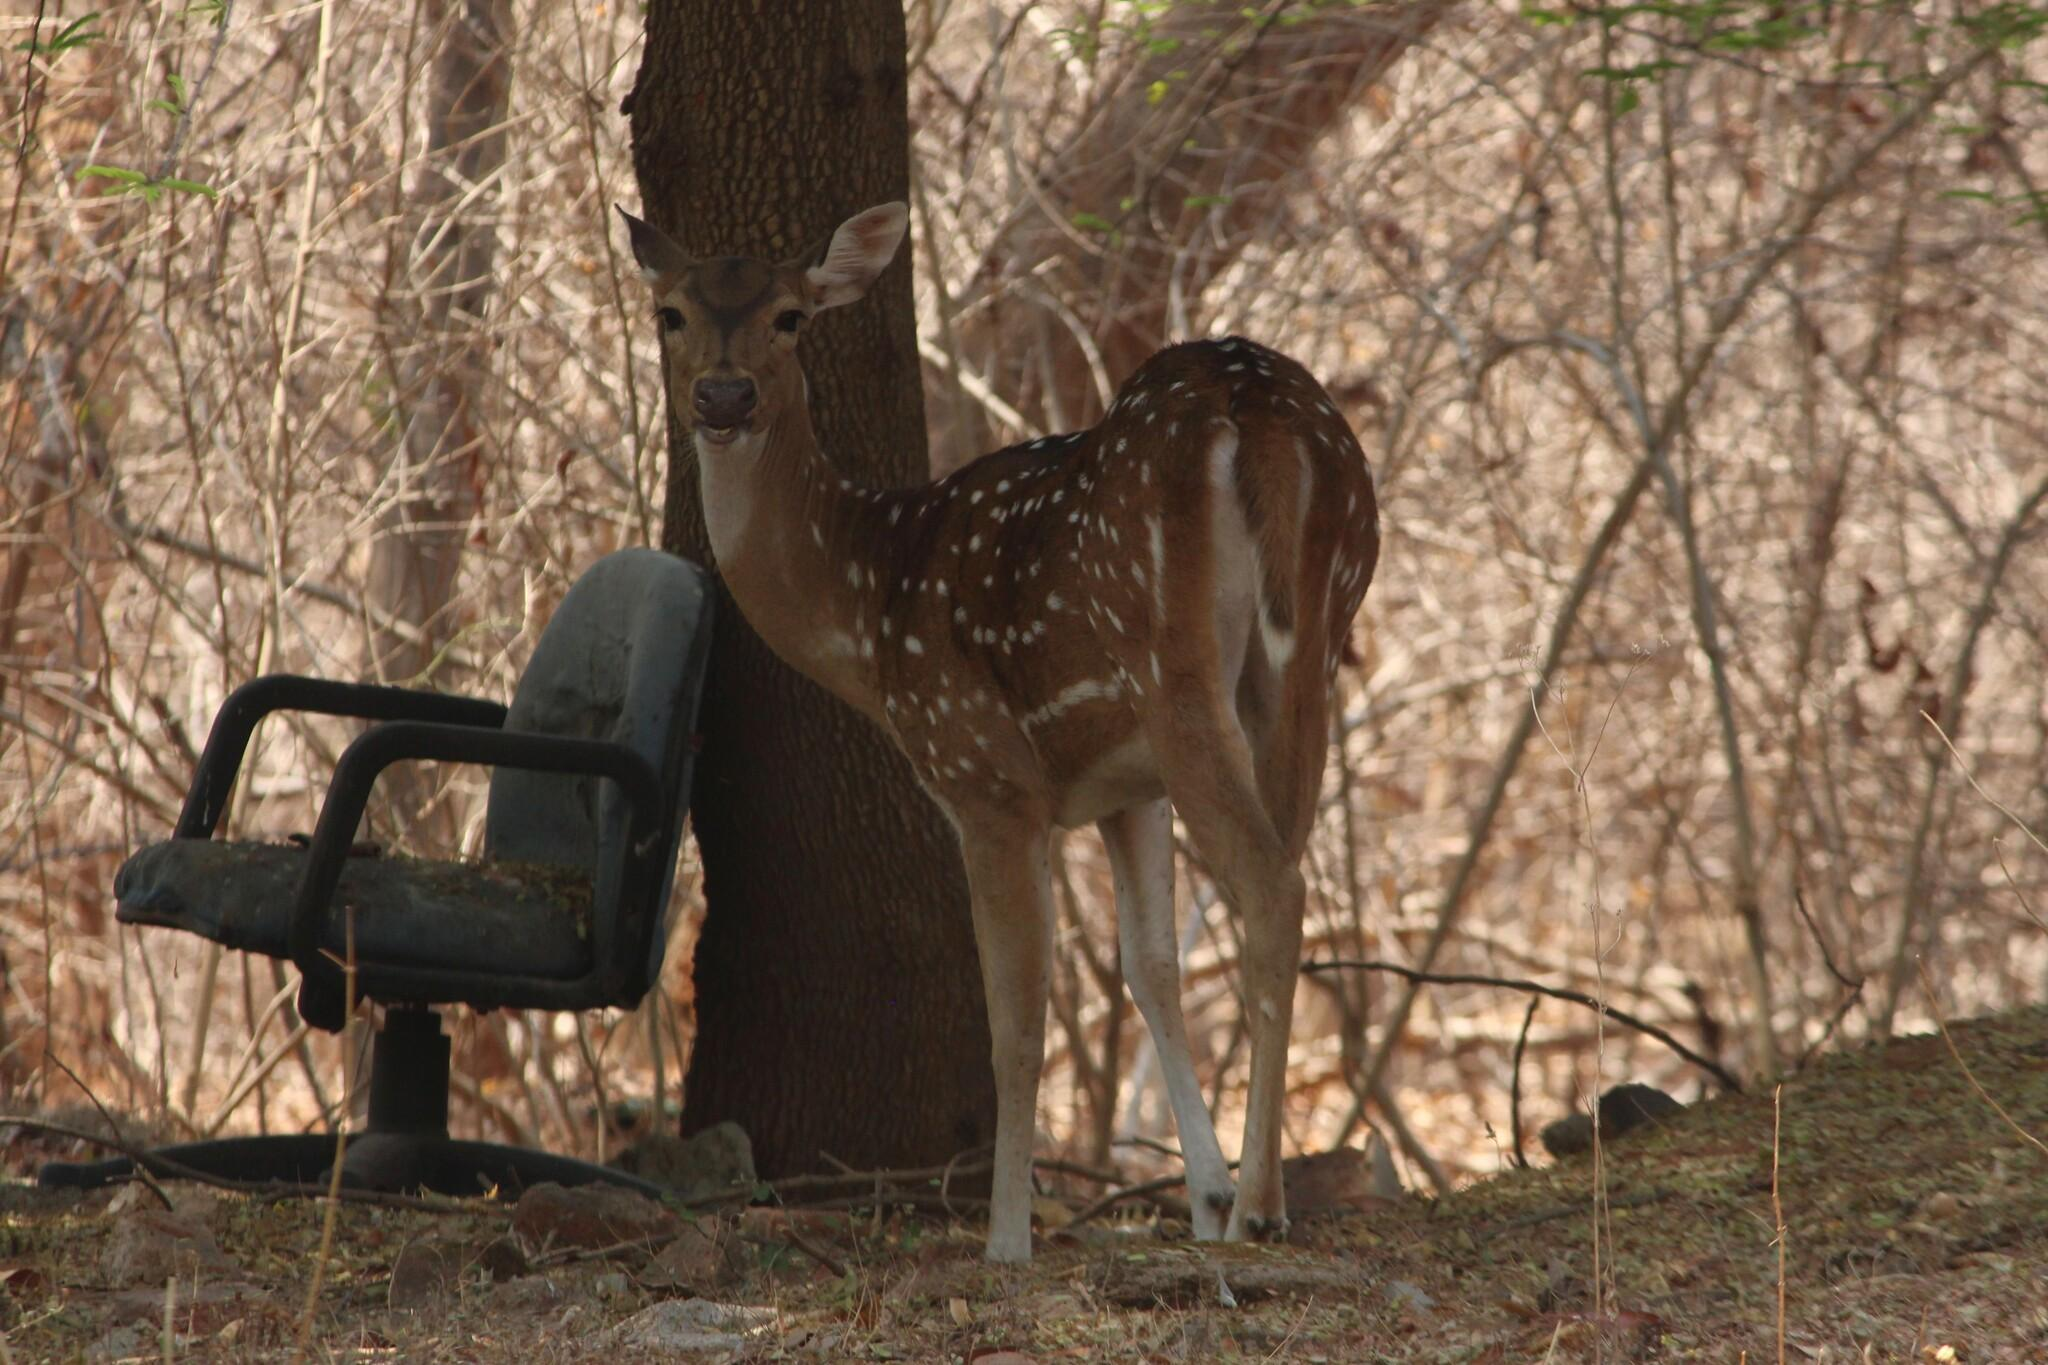Deer: (623, 203, 1380, 1263)
